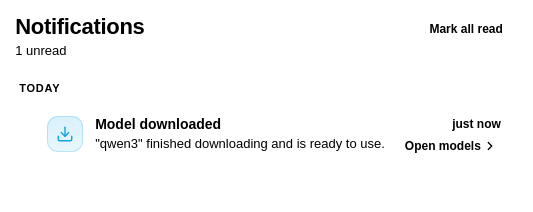
Test: the Pond's household notices › says so when the read state could not be saved
This screenshot has width=533, height=212.
Click the button "Mark all read".
click(466, 29)  # box x1=416 y1=16 x2=517 y2=42
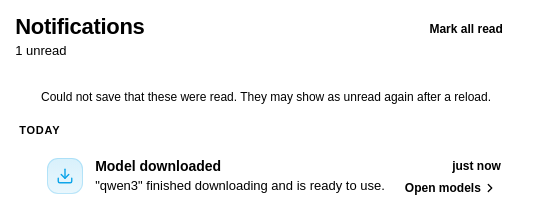
Now the message shows "Could not save", box x1=41 y1=90 x2=491 y2=104
